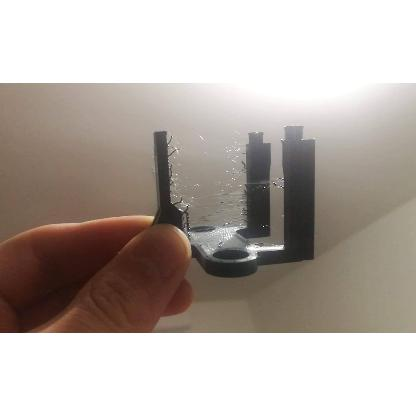fail: (170, 136, 248, 210)
